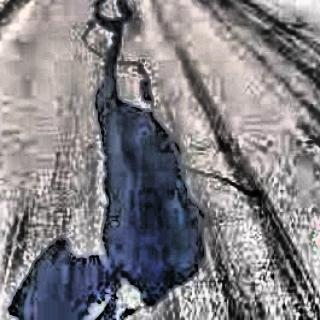crack: (82, 142, 102, 190)
